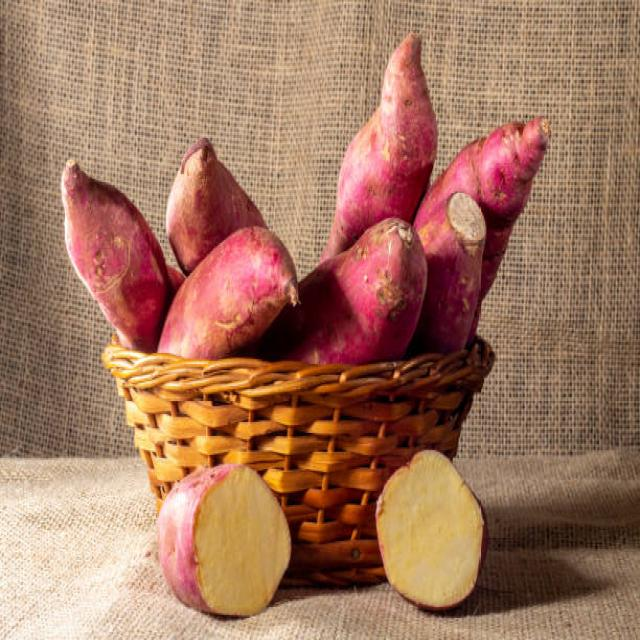sweet potato: (157, 466, 293, 620), (375, 450, 488, 611), (58, 156, 162, 326), (340, 32, 431, 215), (309, 219, 424, 356), (202, 226, 298, 356), (483, 113, 549, 277), (166, 136, 264, 228)
